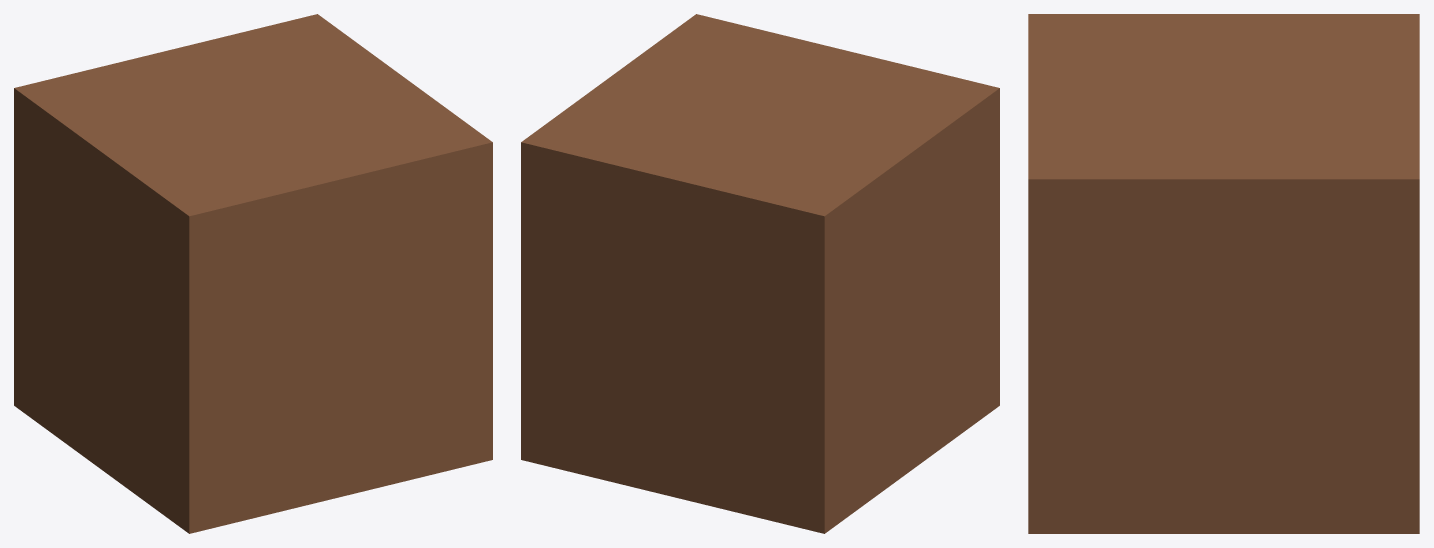
Rendered from DirtTile.fbx.
3 renders of one model, left to right at view 1: azimuth 30°, elevation 25°; view 2: azimuth 150°, elevation 25°; view 3: azimuth 270°, elevation 25°, orthographic. The views are drawn at different scales.
Parts seen in each view (by area): view 1: MudBlock; view 2: MudBlock; view 3: MudBlock.
Boxes of the visible parts, bbox=[...] form: MudBlock: bbox=[14, 14, 492, 533]; MudBlock: bbox=[521, 14, 999, 533]; MudBlock: bbox=[1028, 14, 1419, 533].
Size of the model in its own units: 1 by 1 by 1.
